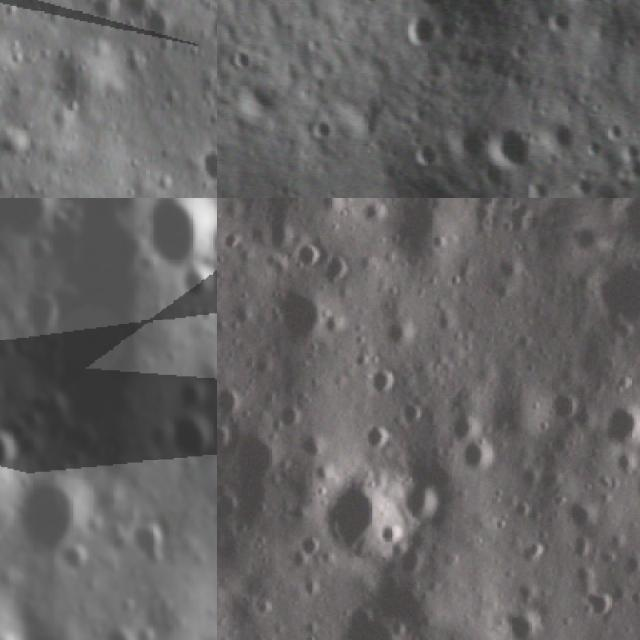crater: (303, 473, 414, 576), (259, 275, 340, 355), (138, 198, 217, 274), (15, 474, 86, 554), (581, 251, 640, 344), (389, 474, 458, 540), (324, 597, 422, 640), (593, 395, 640, 462), (161, 414, 212, 471), (574, 578, 625, 632), (452, 436, 504, 488), (314, 248, 360, 302), (446, 114, 496, 163), (492, 116, 538, 169), (126, 520, 172, 573), (489, 599, 547, 640), (0, 198, 54, 242), (54, 538, 99, 586), (281, 235, 330, 278), (538, 387, 582, 434), (388, 389, 432, 435), (400, 9, 443, 50), (363, 361, 401, 406), (178, 267, 215, 313), (358, 420, 396, 460), (544, 114, 579, 157), (187, 139, 217, 188), (217, 417, 245, 468), (134, 9, 168, 46), (174, 382, 208, 417), (217, 382, 242, 425), (545, 8, 578, 35), (625, 462, 640, 520), (0, 426, 18, 469), (200, 9, 217, 46), (68, 198, 115, 208)
